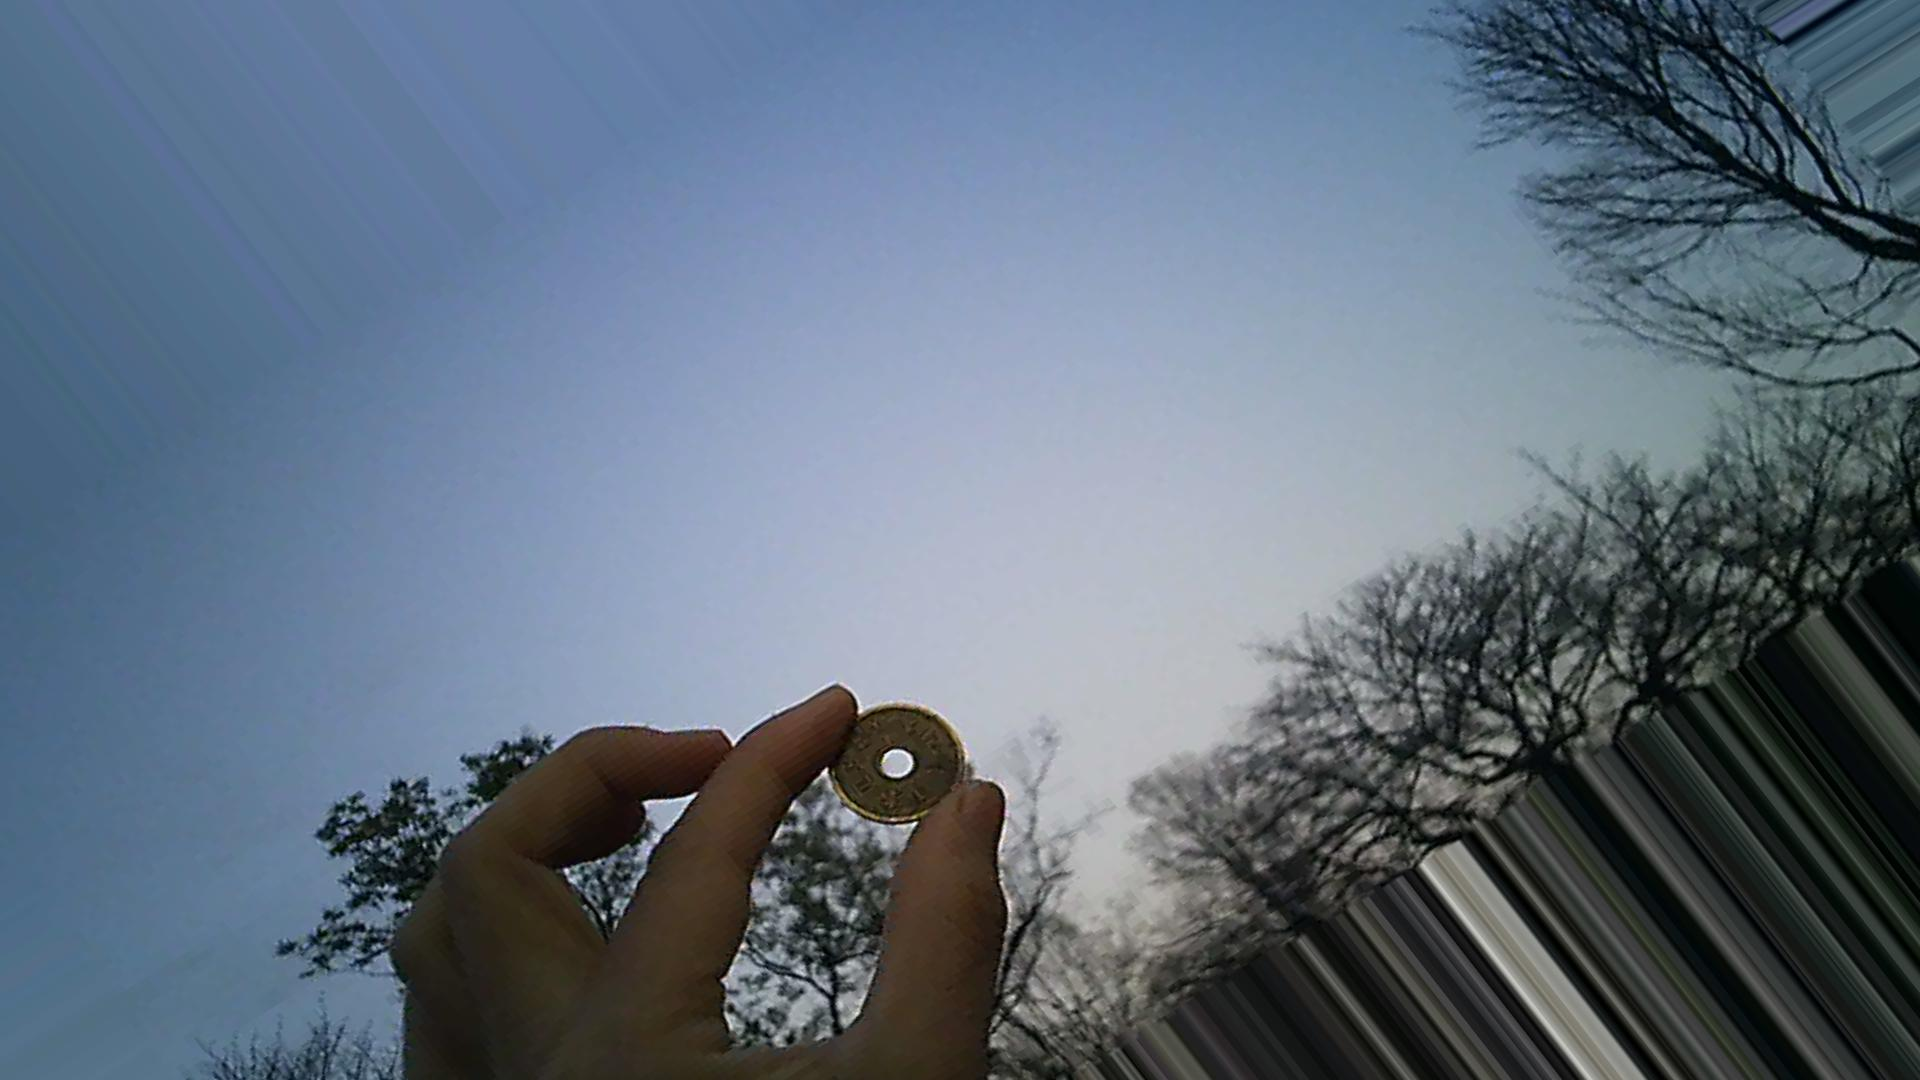5 Yen: (825, 694, 978, 841)
